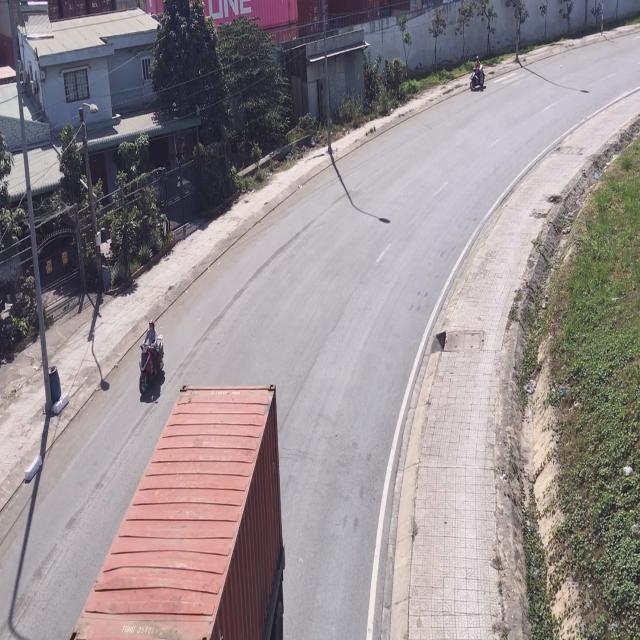motorbike: (139, 320, 164, 400), (469, 56, 485, 92)
truck: (73, 388, 287, 640)
